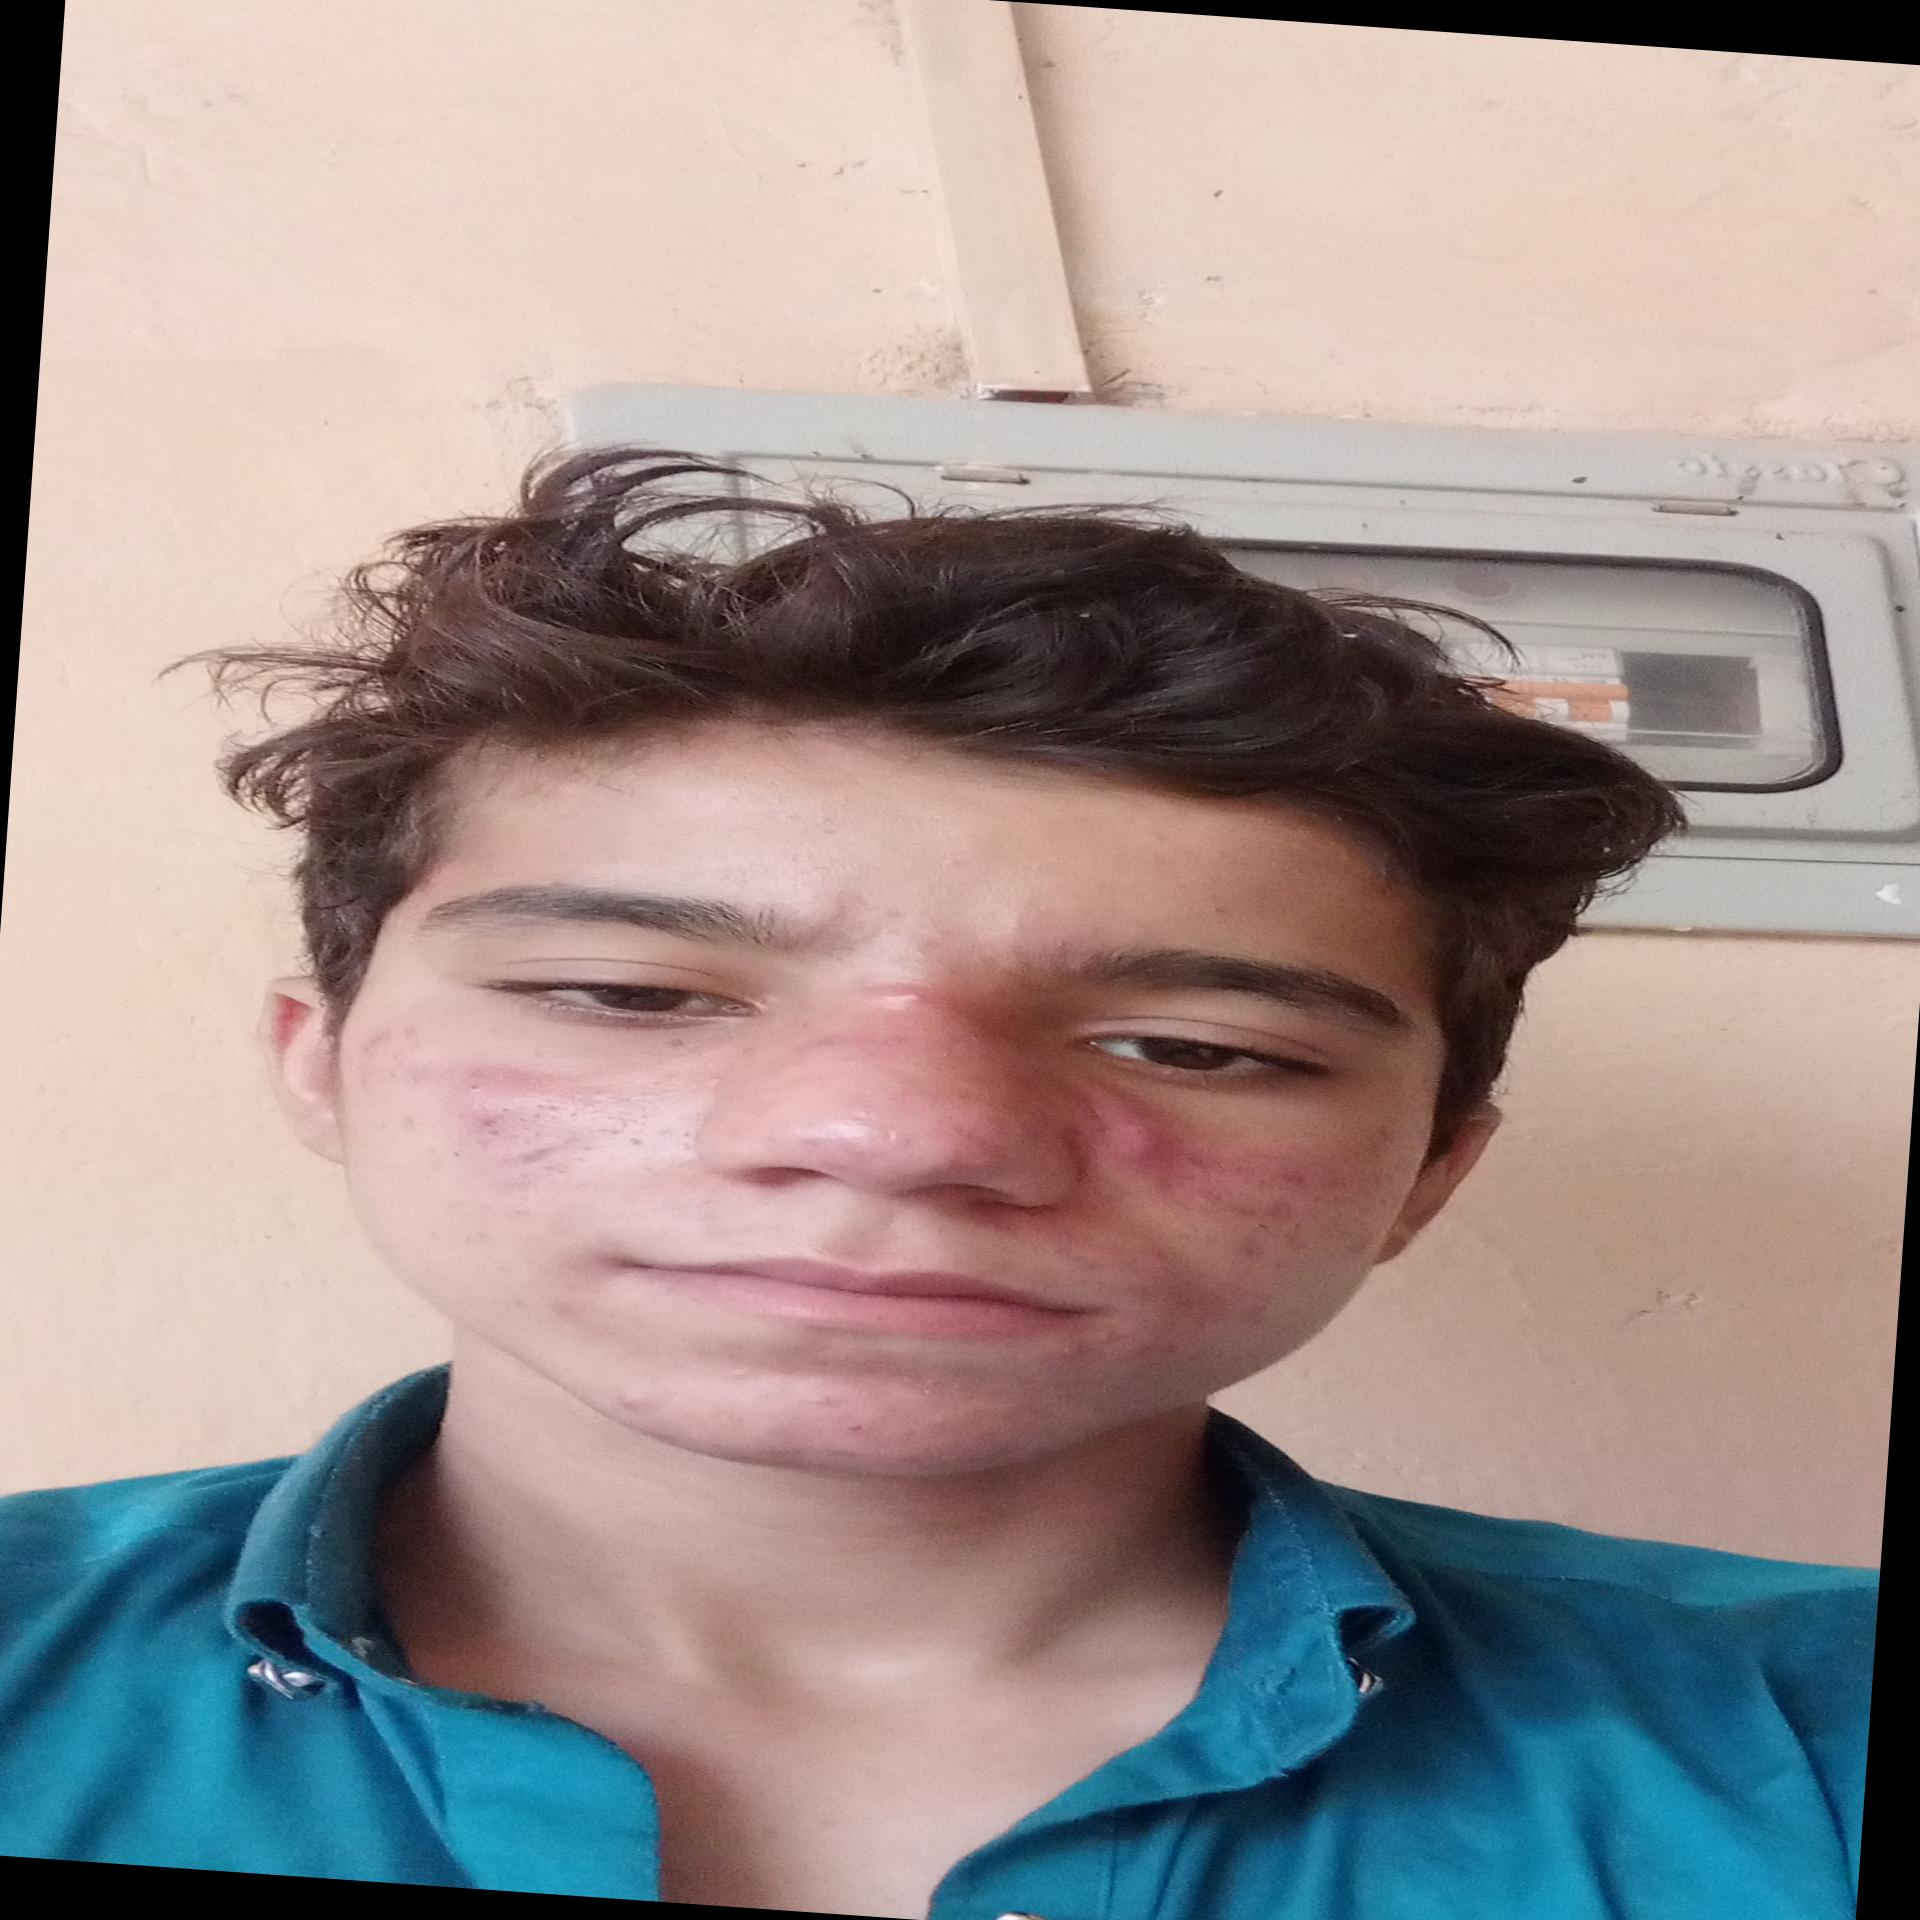Acne: (1099, 1101, 1183, 1169), (846, 974, 958, 1015), (1224, 1192, 1303, 1227), (591, 1385, 675, 1417), (1062, 1320, 1125, 1361), (364, 1016, 420, 1053), (1145, 1280, 1201, 1317), (1143, 1159, 1192, 1197), (1171, 1178, 1227, 1208), (506, 1139, 564, 1167), (535, 1292, 589, 1322), (830, 1419, 895, 1444), (457, 1108, 510, 1134), (705, 1359, 760, 1384), (798, 1384, 853, 1408), (1273, 1159, 1319, 1187), (390, 1064, 438, 1090), (992, 907, 1032, 937), (1361, 1122, 1407, 1148), (1217, 1227, 1264, 1252), (389, 1109, 427, 1138), (793, 1350, 840, 1373), (1178, 1145, 1220, 1166), (932, 851, 971, 872), (789, 1132, 828, 1152)
Englarged Pores: (464, 1083, 656, 1159)
